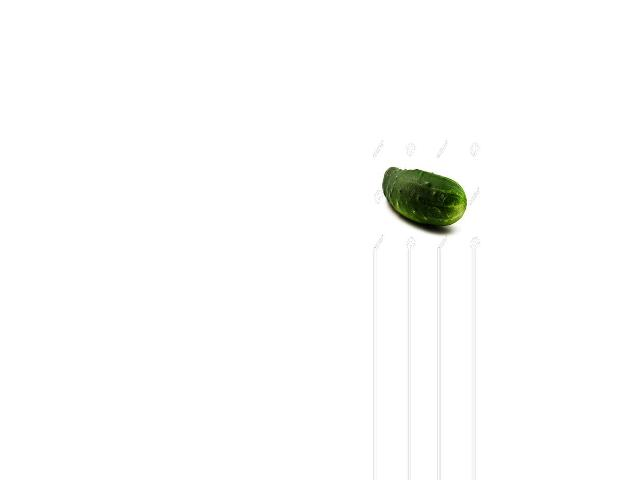cucumber: (382, 167, 467, 226)
